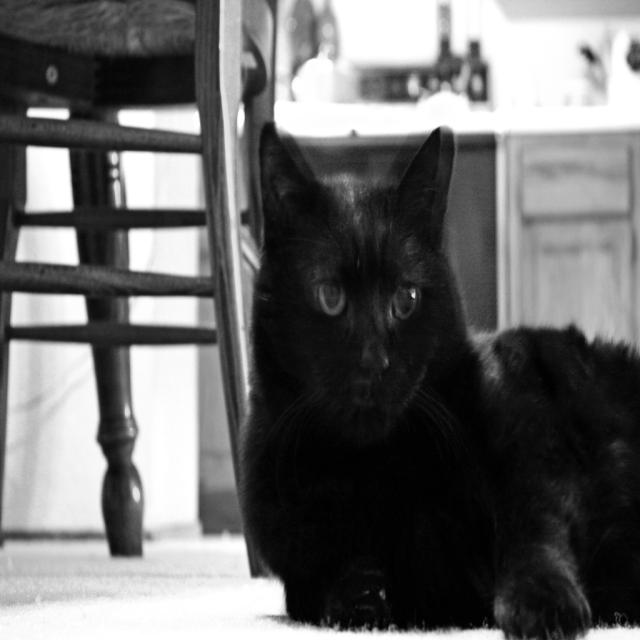Cat: (234, 118, 638, 636)
